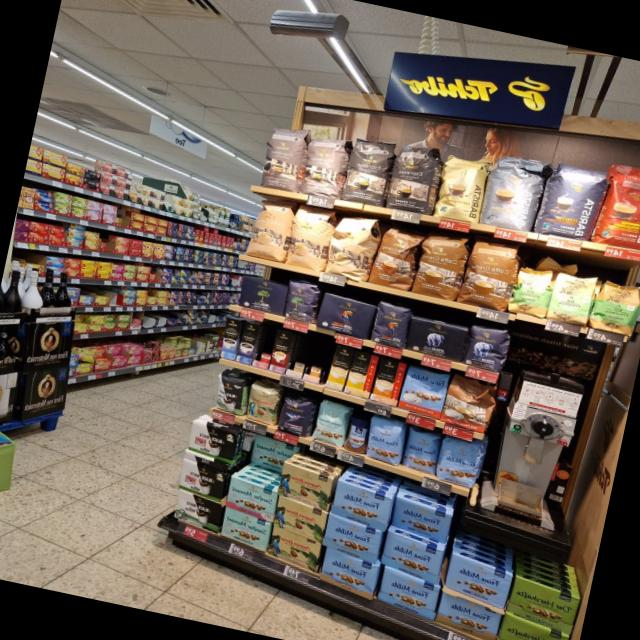AB Bohne: (462, 322, 514, 374)
AB Gemahlen: (403, 316, 468, 362)
Athiopien Bohne: (588, 272, 640, 338), (508, 260, 554, 318)
Athiopien Gemahlen: (546, 268, 600, 328)
BM Bohne: (282, 277, 320, 324)
BM Gemahlen: (236, 274, 288, 316)
BW Bohne: (209, 371, 251, 417)
BW Gemahlen: (176, 457, 229, 503), (171, 488, 225, 533), (185, 420, 238, 465)
Barista CB: (432, 150, 492, 226)
Barista CC: (477, 158, 545, 234)
Barista Espresso: (534, 156, 606, 244)
Barista Kolumbien: (591, 165, 640, 254)
C Fino Bohne: (274, 392, 316, 438)
CC Mild: (324, 209, 381, 282), (282, 201, 336, 272), (243, 194, 296, 263)
CC Vollmundig 36 Pads: (456, 235, 521, 312), (410, 228, 471, 302), (368, 223, 423, 292), (438, 376, 499, 434)
Colombia BB Bohne: (243, 382, 282, 427)
Colombia BB Gemahlen: (276, 460, 333, 512), (265, 524, 321, 573), (273, 494, 327, 544)
Espresso Aromatisch: (257, 120, 312, 194), (298, 128, 352, 200)
Espresso S Art: (339, 129, 397, 208), (384, 137, 439, 215)
FM 36 Pads: (396, 365, 449, 418)
FM Bohne: (434, 436, 484, 488), (363, 415, 406, 466), (399, 428, 442, 474)
FM Gemahlen: (444, 552, 513, 609), (379, 529, 443, 587), (376, 565, 439, 621), (434, 590, 502, 640), (329, 478, 392, 531), (319, 512, 382, 564), (319, 546, 379, 600), (389, 495, 452, 545)
FM Instant: (342, 416, 370, 454)
Herzhatfe Mundig: (505, 574, 580, 636), (496, 611, 569, 640)
LG Bohne: (368, 298, 412, 350)
LG Gemahlen: (314, 294, 377, 340)
SM Bohne: (309, 398, 352, 449)
SM Gemahlen: (223, 474, 278, 522), (218, 505, 271, 553)
Simo CCMild: (344, 350, 378, 398)
Simo CCVollmundig: (371, 358, 406, 405)
Simo Es Caramel: (268, 330, 292, 374)
Simo Es Kraft: (234, 320, 259, 364)
Simo Es Vanilla: (219, 316, 240, 361)
